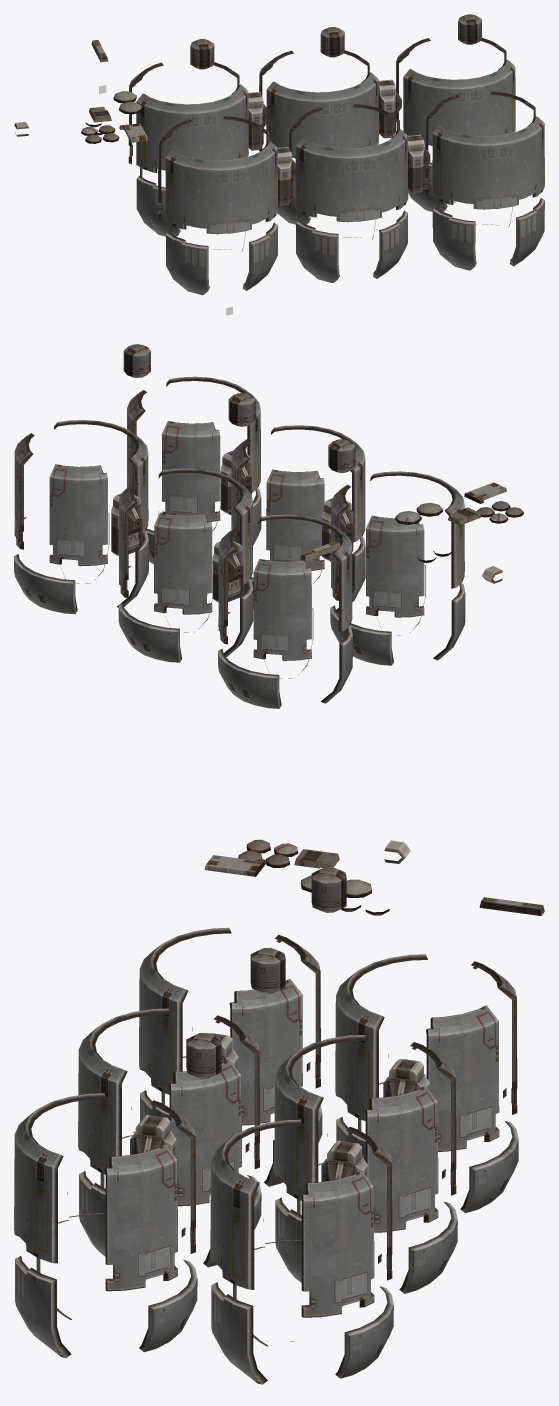
Rendered from prop_static_tr1_container_01_04.glb.
3 views of the same model, one above another, from view 1: azimuth 30°, elevation 25°; view 2: azimuth 150°, elevation 25°; view 3: azimuth 270°, elevation 25° (orthographic). The views are drawn at different scales.
Parts seen in each view (by area): view 1: tr1_container_01_04_mat01a_LOD0, tr1_container_01_04_mat01c_LOD0, tr1_container_01_04_mat01b_LOD0; view 2: tr1_container_01_04_mat01a_LOD0, tr1_container_01_04_mat01c_LOD0, tr1_container_01_04_mat01b_LOD0; view 3: tr1_container_01_04_mat01a_LOD0, tr1_container_01_04_mat01c_LOD0, tr1_container_01_04_mat01b_LOD0.
Part boxes in pixels (box(x1,y1,x2,y2)): tr1_container_01_04_mat01a_LOD0: box(14, 14, 515, 295); tr1_container_01_04_mat01c_LOD0: box(259, 50, 544, 270); tr1_container_01_04_mat01b_LOD0: box(128, 62, 248, 236); tr1_container_01_04_mat01a_LOD0: box(14, 344, 523, 665); tr1_container_01_04_mat01c_LOD0: box(118, 376, 261, 662); tr1_container_01_04_mat01b_LOD0: box(218, 514, 352, 708); tr1_container_01_04_mat01a_LOD0: box(78, 839, 544, 1384); tr1_container_01_04_mat01c_LOD0: box(14, 1035, 457, 1358); tr1_container_01_04_mat01b_LOD0: box(335, 954, 518, 1213).
Size of what is drawn, in the model's own units: 12.06 by 6.04 by 7.99.
5 materials, 3 textured.
